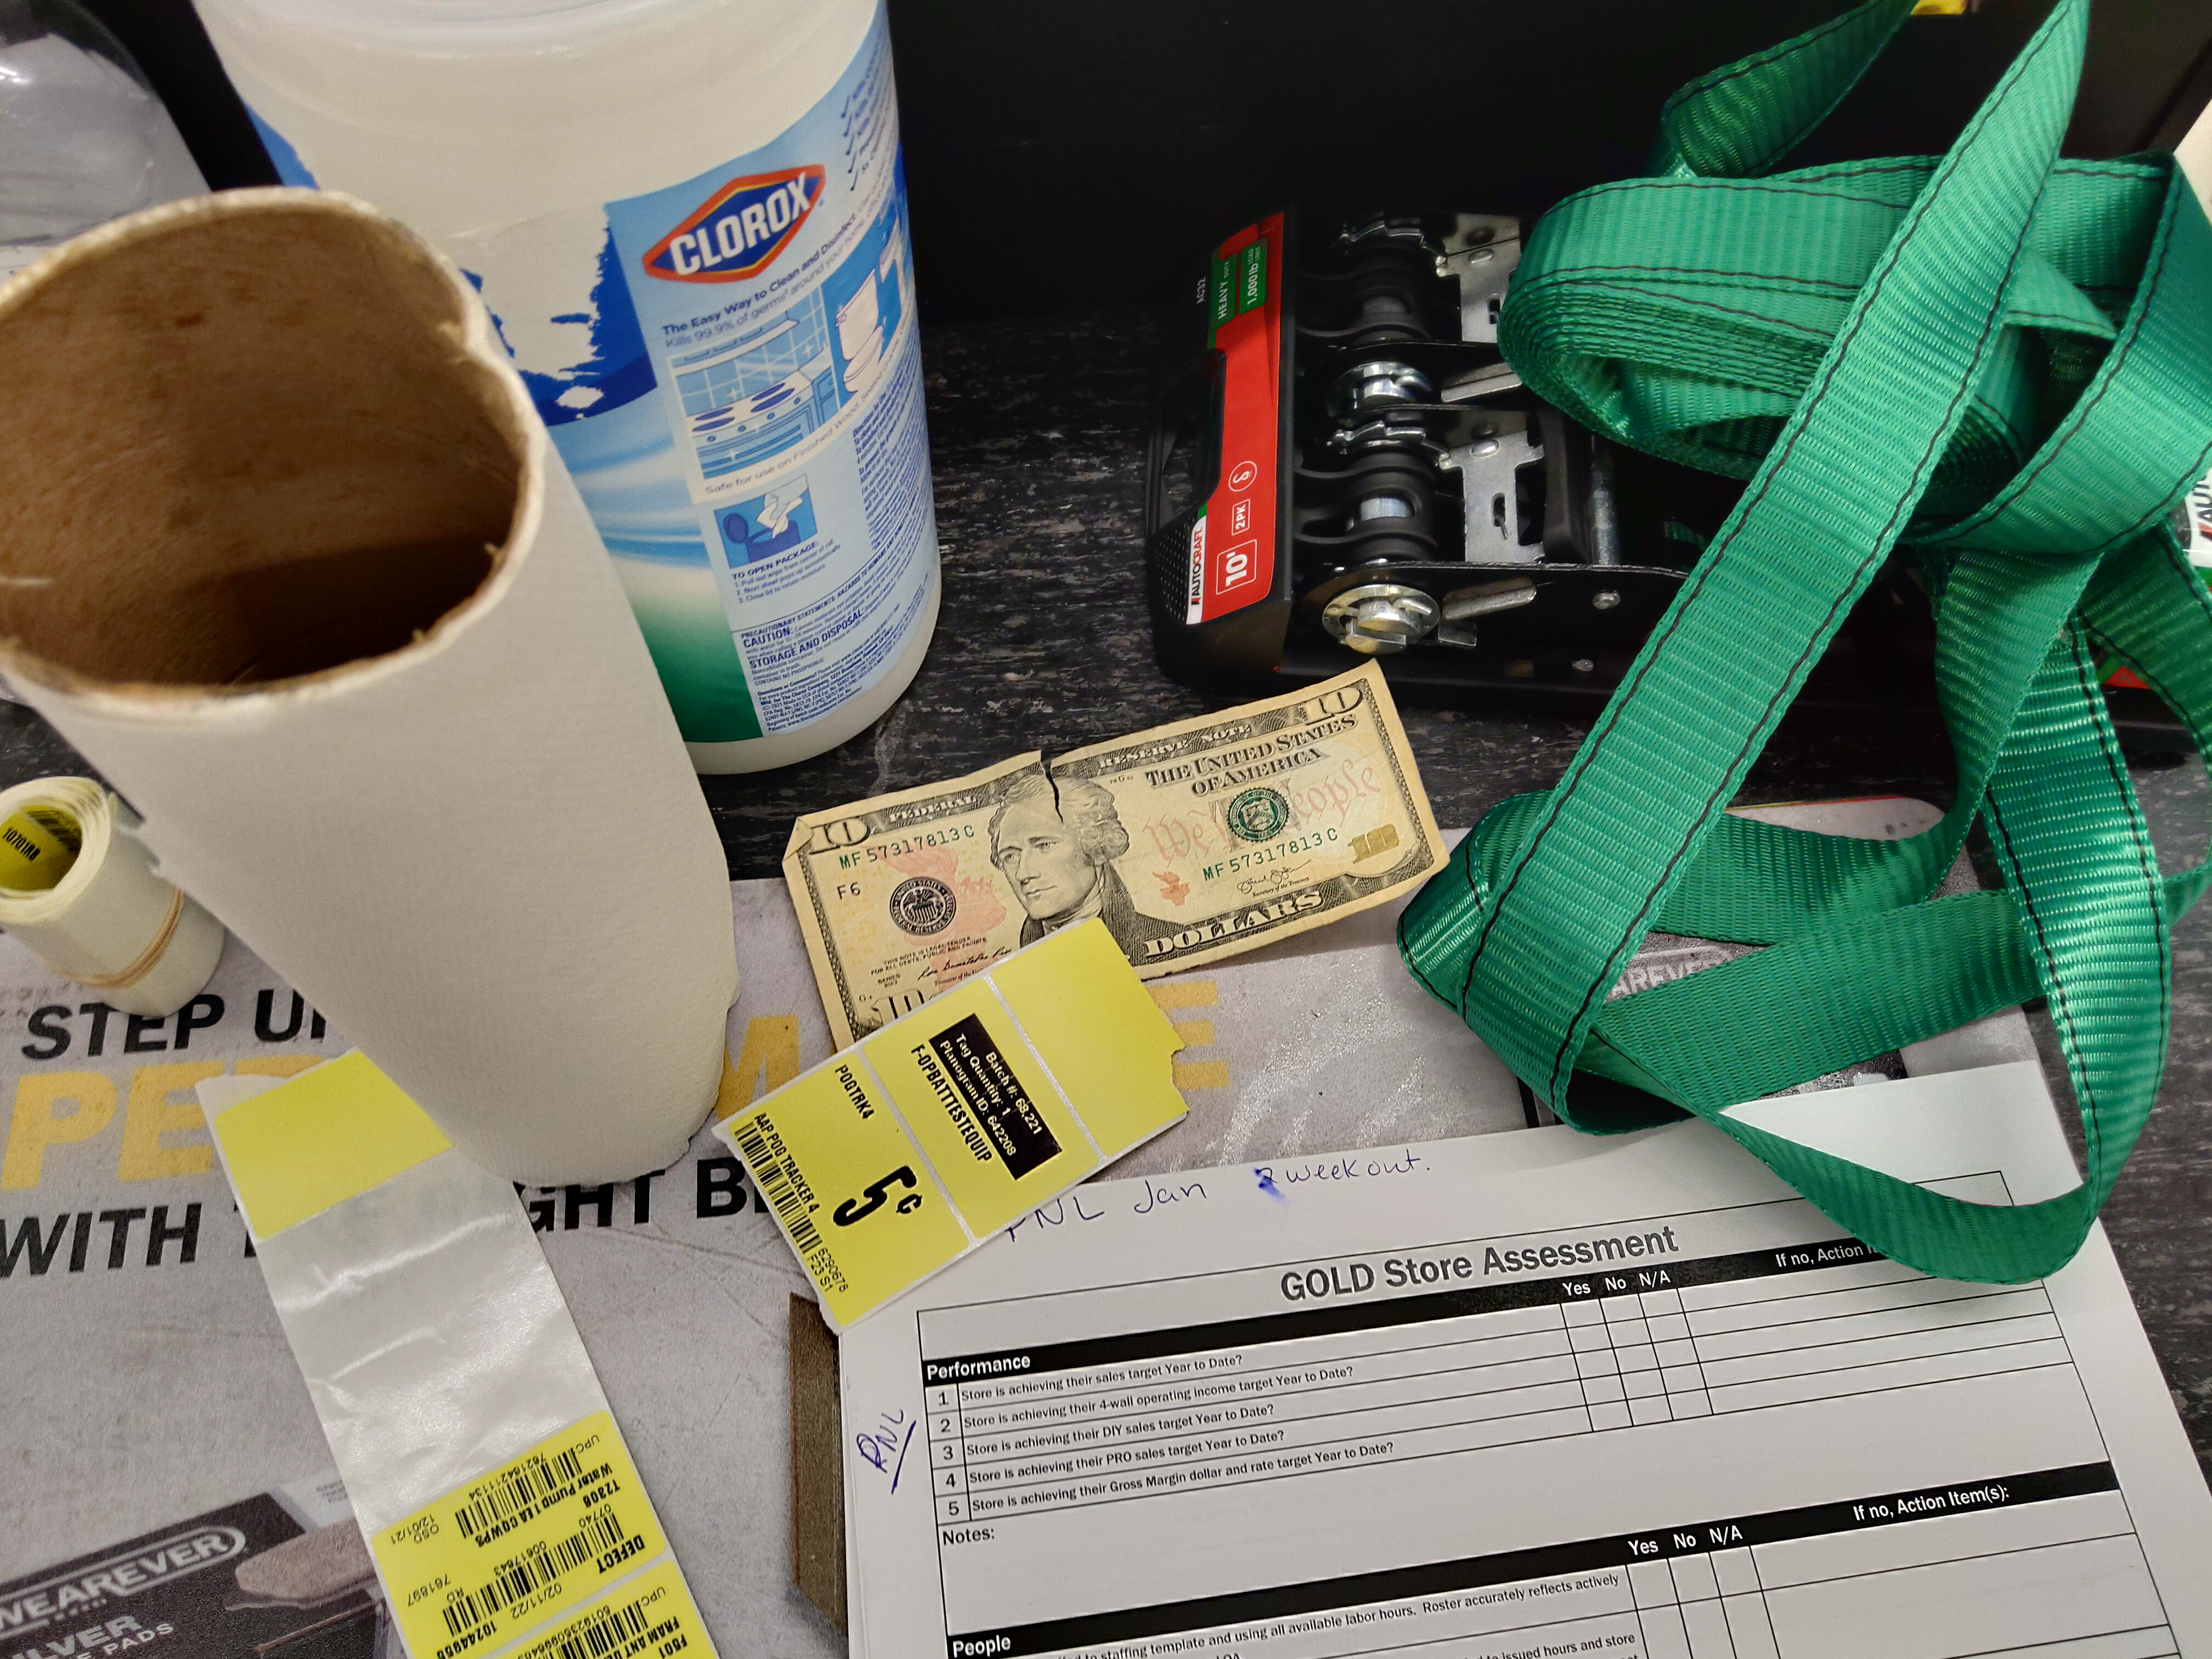TenBill: (777, 657, 1454, 1061)
